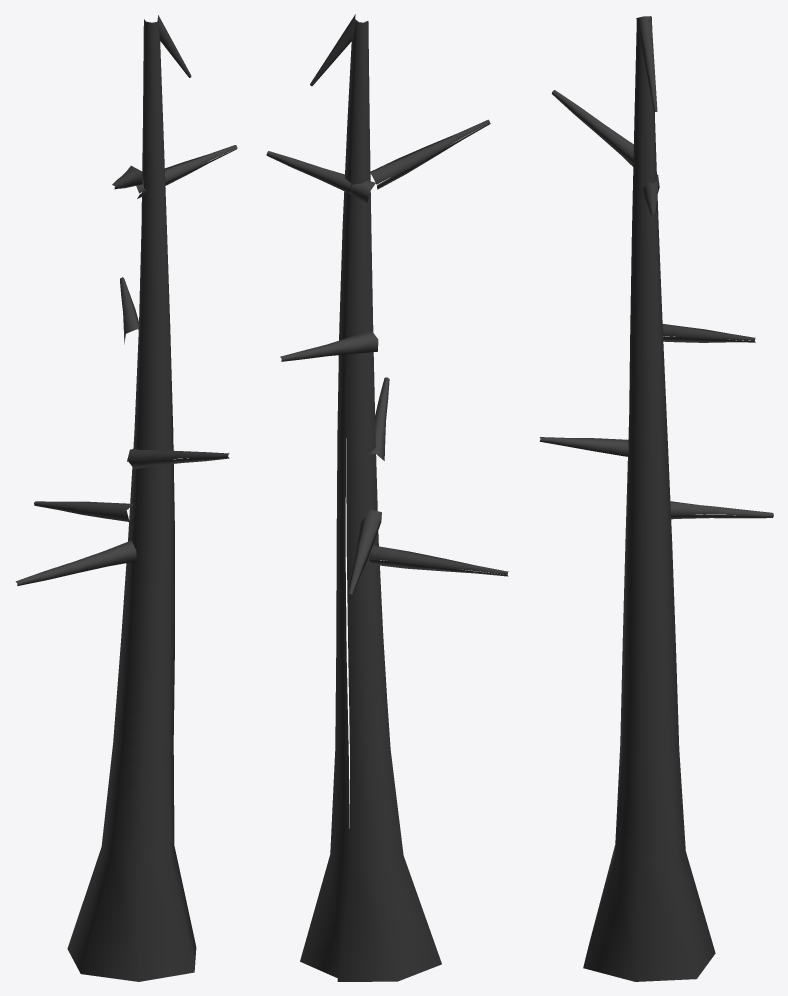
Rendered from taiga_dead_birch.glb.
3 renders of one model, left to right at view 1: azimuth 30°, elevation 25°; view 2: azimuth 150°, elevation 25°; view 3: azimuth 270°, elevation 25°, orthographic.
Visible parts, largest first — view 1: bark; view 2: bark; view 3: bark.
Part boxes in pixels (bbox=[...]): bark: bbox=[15, 15, 237, 981]; bark: bbox=[266, 14, 508, 981]; bark: bbox=[539, 16, 773, 981].
Size of the model in its own units: 1.84 by 7.14 by 1.61.
1 material, 1 textured.
